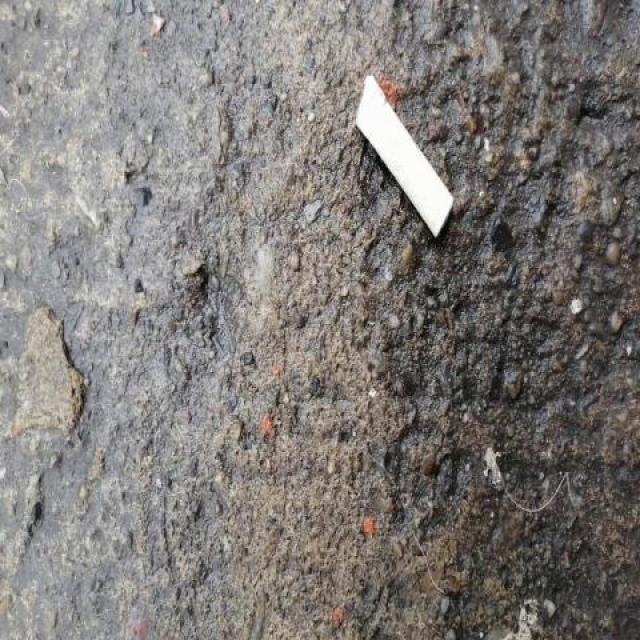non-organic waste: (350, 68, 458, 245)
